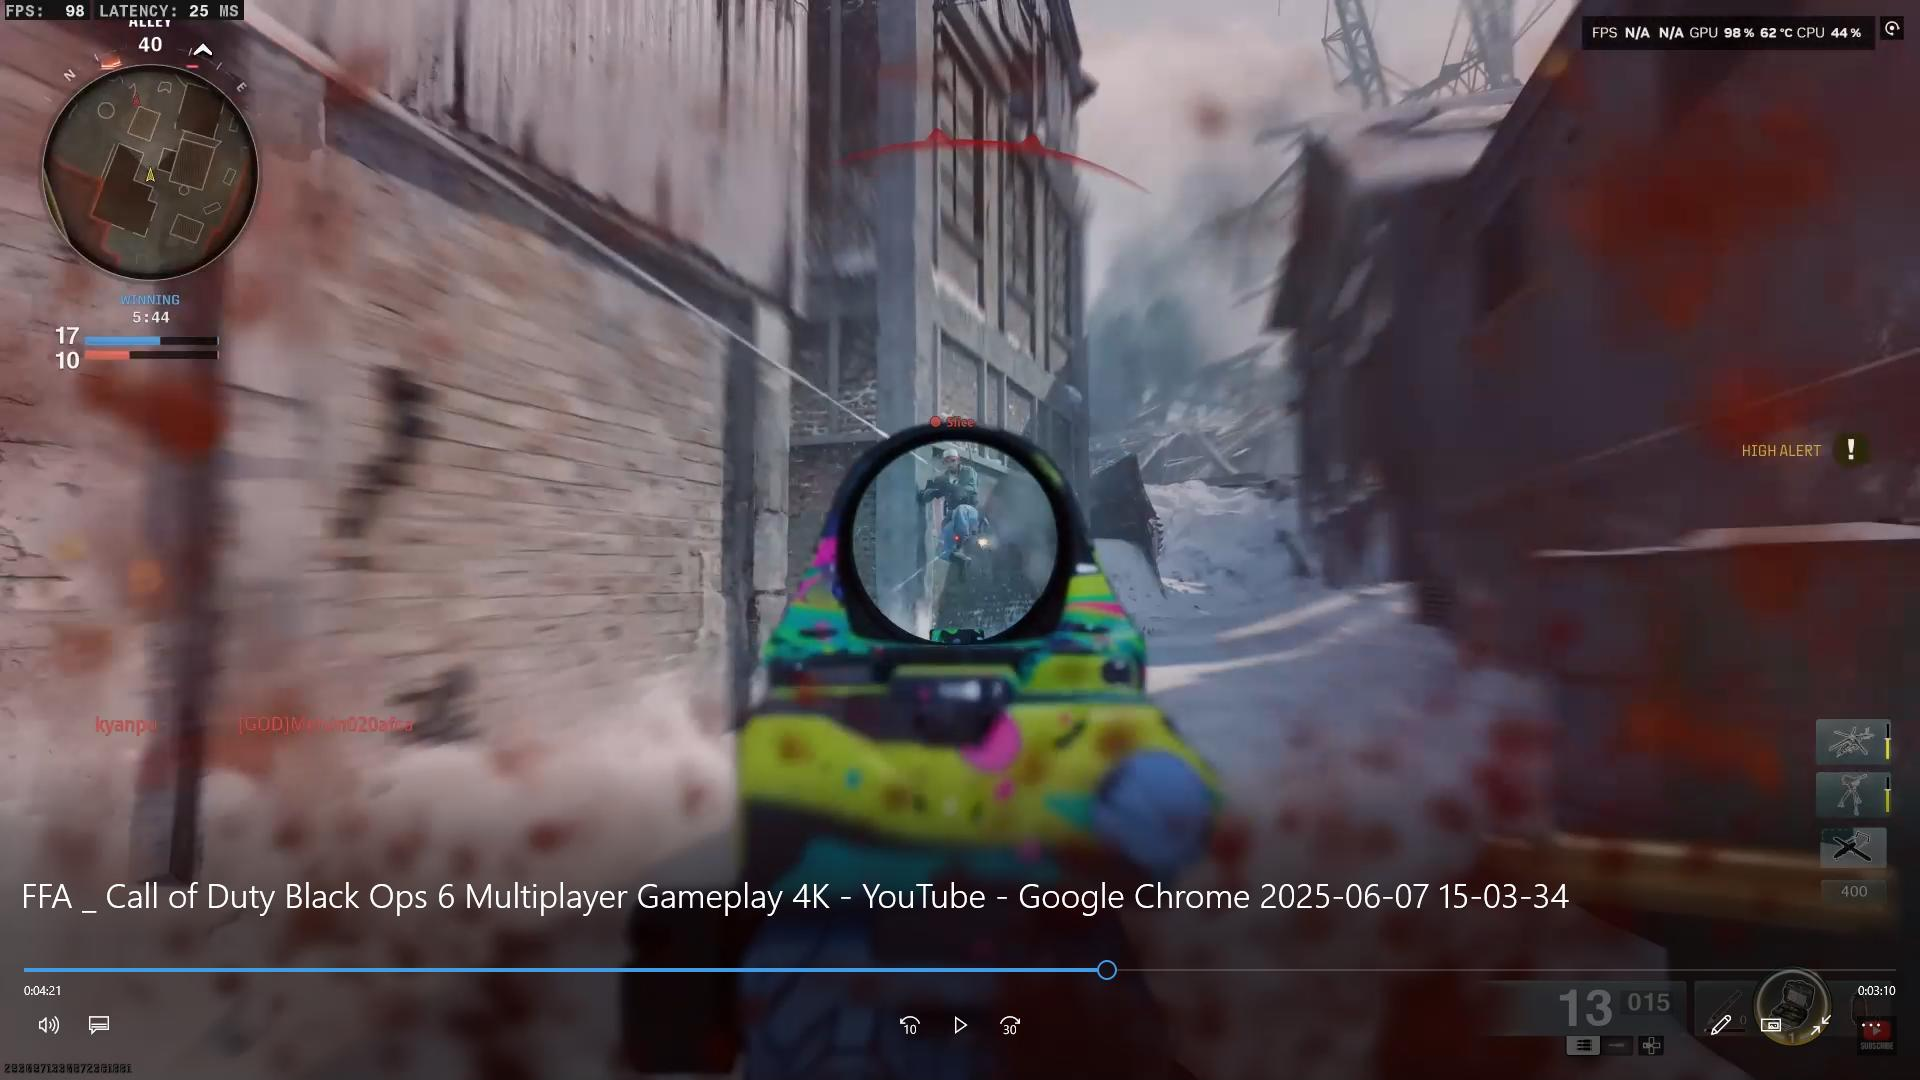Enemy: (918, 440, 992, 571)
